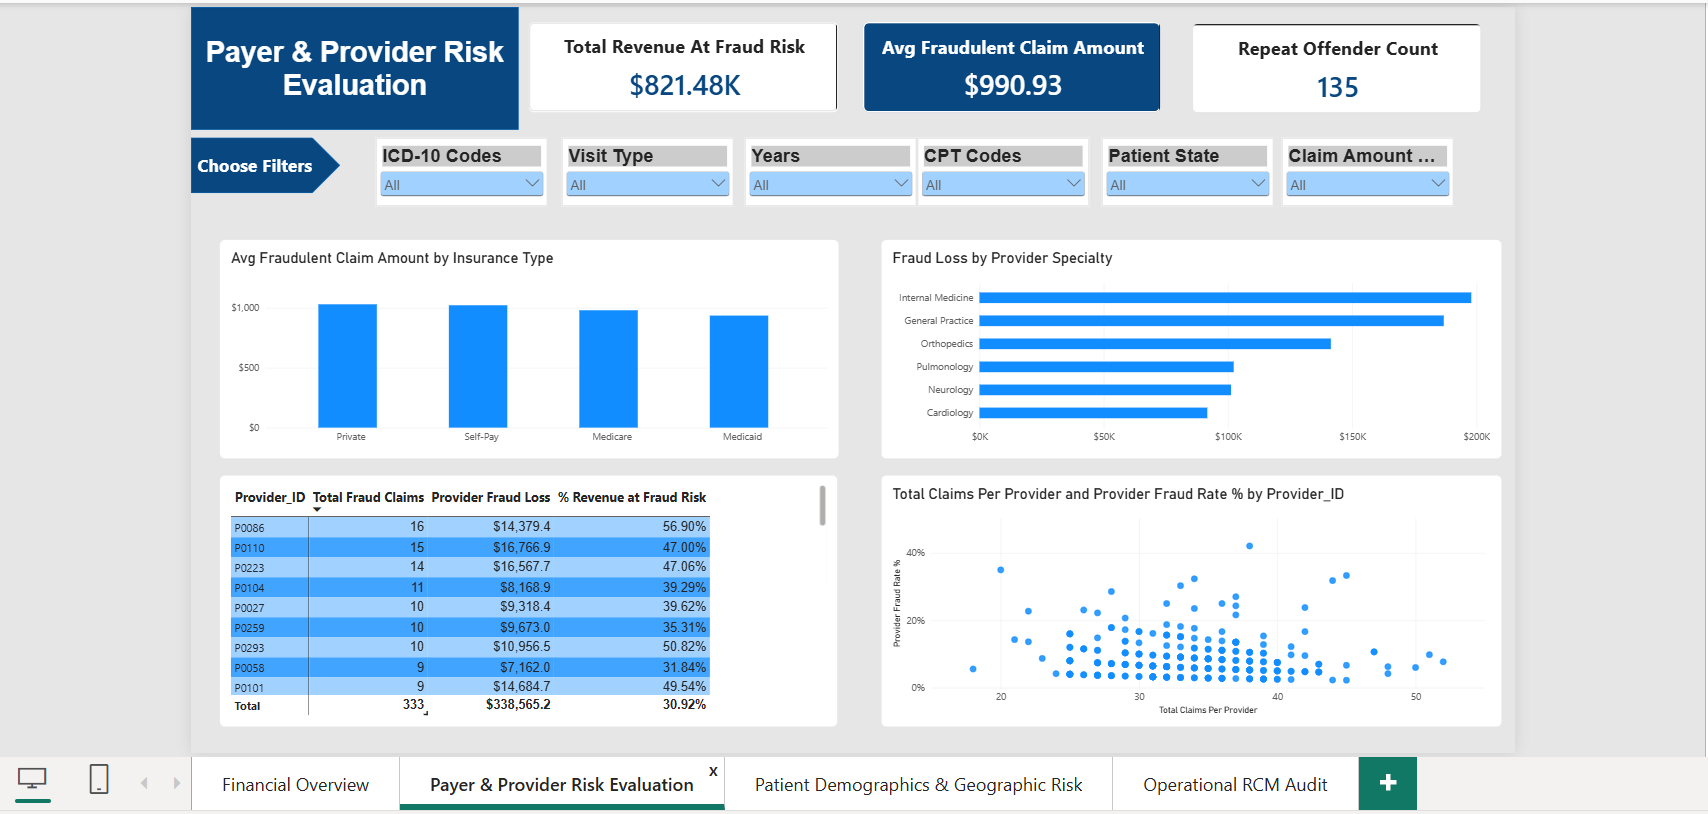

Layout of this report page (visuals, bound fields, positions):
{"tool":"powerbi","page":{"name":"Payer & Provider Risk Evaluation","canvas":[1920,1080],"ordinal":1},"visuals":[{"type":"cardVisual","fields":{"Data":["ROI Measures.Total Revenue At Fraud Risk"]},"box":[489.9,21.5,449.1,131.1],"z":0},{"type":"shape","box":[0,0,474.8,178.3],"z":1000},{"type":"cardVisual","fields":{"Data":["ROI Measures.Avg Fraudulent Claim Amount"]},"box":[973.3,21.5,431.9,131.1],"z":2000},{"type":"clusteredColumnChart","title":"Avg Fraudulent Claim Amount by Insurance Type","fields":{"Category":["Fact_Table.Insurance_Type"],"Y":["ROI Measures.Avg Fraudulent Claim Amount"]},"box":[40.8,337.3,898.1,318],"z":3000},{"type":"barChart","title":"Fraud Loss by Provider Specialty","fields":{"Y":["ROI Measures.Specialty Fraud Loss"],"Category":["Fact_Table.Provider_Specialty"]},"box":[999.1,337.3,900.3,318],"z":4000},{"type":"pivotTable","fields":{"Rows":["Dim_Provider.Provider_ID"],"Values":["select","ROI Measures.Total Fraud Claims","ROI Measures.Provider Fraud Loss","ROI Measures.% Revenue at Fraud Risk"]},"box":[40.8,679,896,365.3],"z":5000},{"type":"cardVisual","fields":{"Data":["ROI Measures.Repeat Offender Count"]},"box":[1450.3,23.6,421.1,131.1],"z":6000},{"type":"scatterChart","fields":{"Y":["ROI Measures.Provider Fraud Rate %"],"X":["ROI Measures.Total Claims Per Provider"],"Category":["Dim_Provider.Provider_ID"]},"box":[999.1,679,900.3,365.3],"z":7000},{"type":"slicer","fields":{"Values":["Fact_Table.Procedure_Code"]},"box":[1052.4,190,250,100],"z":8000},{"type":"slicer","fields":{"Values":["Fact_Table.Patient_State"]},"box":[1318.7,190,250,100],"z":9000},{"type":"slicer","fields":{"Values":["Fact_Table.Claim_Amount_Bucket"]},"box":[1580.7,190,250,100],"z":10000},{"type":"shape","box":[0,190,216.2,80.8],"z":11000},{"type":"slicer","fields":{"Values":["Fact_Table.Submission_Year"]},"box":[801.9,189.8,250,100],"z":12000},{"type":"slicer","fields":{"Values":["Fact_Table.Visit_Type"]},"box":[537.2,189.8,250,100],"z":13000},{"type":"slicer","fields":{"Values":["Fact_Table.Diagnosis_Code"]},"box":[267.3,189.8,250,100],"z":14000}]}

Visuals, with their boxes on the page's 1920x1080 design canvas (x1, y1, x2, y2). These are canvas units, not pixel positions in the 1708x814 screenshot, which may show the page scaled, cropped or inside an application window:
cardVisual - ROI Measures.Total Revenue At Fraud Risk: left=490, top=22, right=939, bottom=153
shape: left=0, top=0, right=475, bottom=178
cardVisual - ROI Measures.Avg Fraudulent Claim Amount: left=973, top=22, right=1405, bottom=153
"Avg Fraudulent Claim Amount by Insurance Type" clusteredColumnChart: left=41, top=337, right=939, bottom=655
"Fraud Loss by Provider Specialty" barChart: left=999, top=337, right=1899, bottom=655
pivotTable - Dim_Provider.Provider_ID x select: left=41, top=679, right=937, bottom=1044
cardVisual - ROI Measures.Repeat Offender Count: left=1450, top=24, right=1871, bottom=155
scatterChart - ROI Measures.Provider Fraud Rate % x ROI Measures.Total Claims Per Provider: left=999, top=679, right=1899, bottom=1044
slicer - Fact_Table.Procedure_Code: left=1052, top=190, right=1302, bottom=290
slicer - Fact_Table.Patient_State: left=1319, top=190, right=1569, bottom=290
slicer - Fact_Table.Claim_Amount_Bucket: left=1581, top=190, right=1831, bottom=290
shape: left=0, top=190, right=216, bottom=271
slicer - Fact_Table.Submission_Year: left=802, top=190, right=1052, bottom=290
slicer - Fact_Table.Visit_Type: left=537, top=190, right=787, bottom=290
slicer - Fact_Table.Diagnosis_Code: left=267, top=190, right=517, bottom=290
